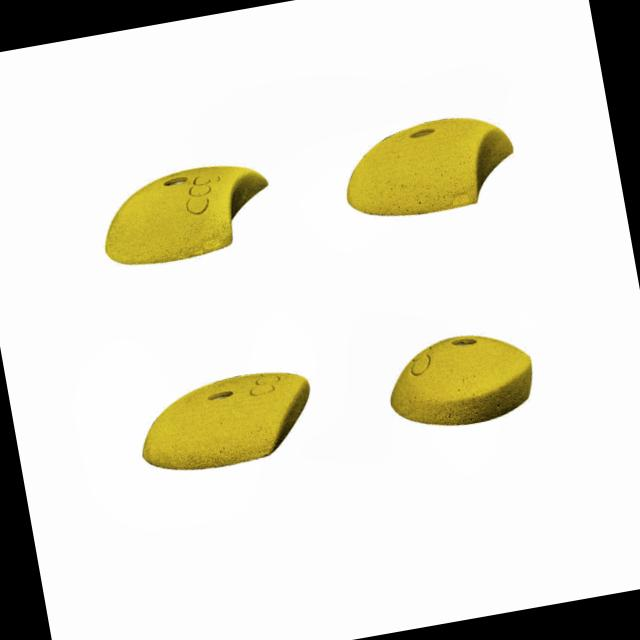Hold: (129, 357, 322, 482), (334, 104, 524, 225), (89, 158, 282, 269), (378, 319, 546, 431)
